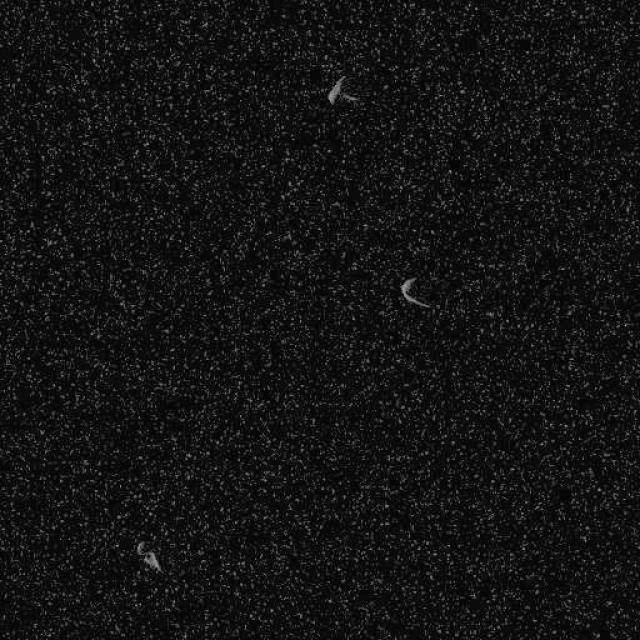D2: (399, 275, 435, 310), (325, 74, 360, 106), (135, 538, 163, 574)
